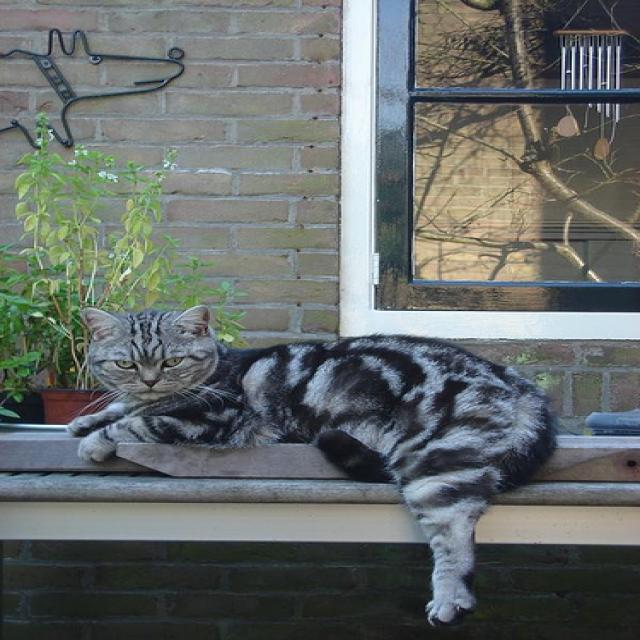left eye: (159, 354, 184, 368)
